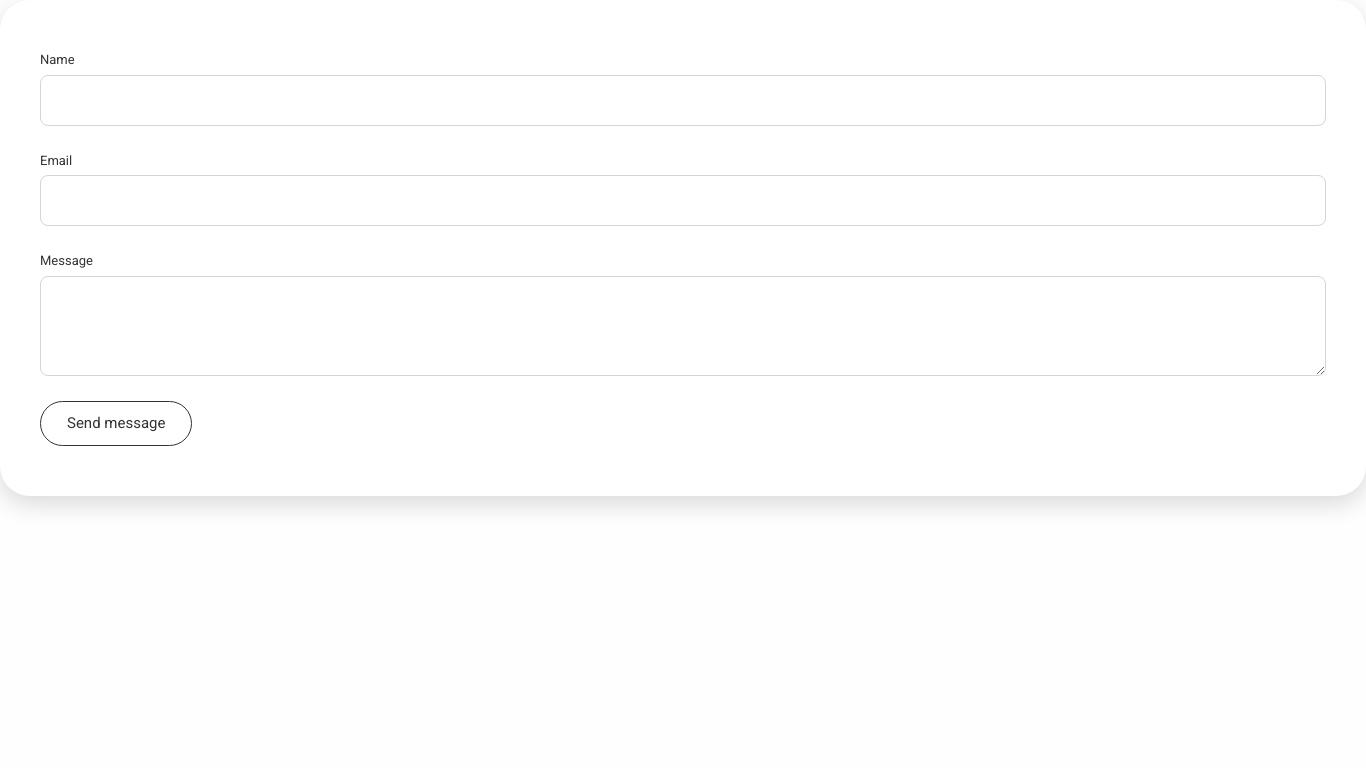
Form › form interaction › should handle form submission with server error
Use the default MSW handler which validates the input
Type "J" into the field labelled "Name" at (683, 100), box [40,74,1326,126]
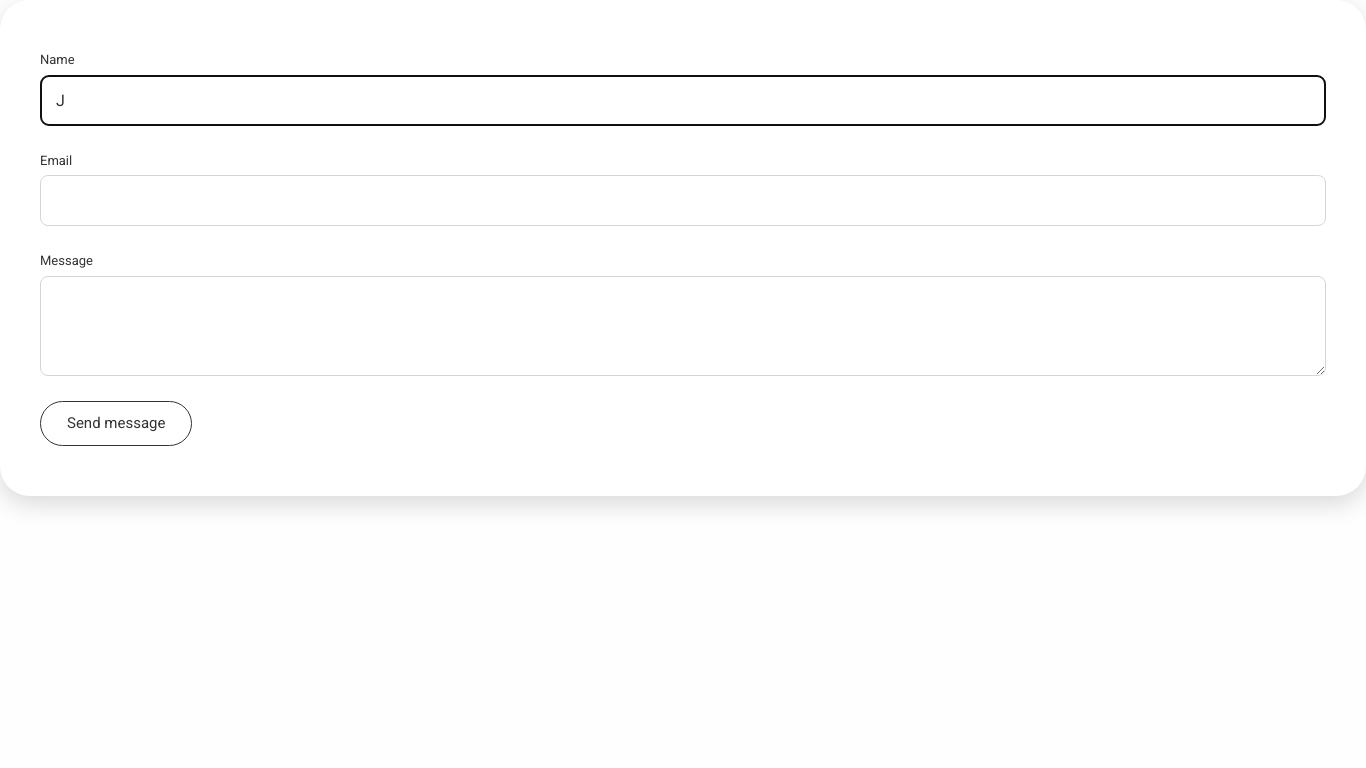
Type "john@example.com" into the field labelled "Email" at (683, 200), box [40,175,1326,226]
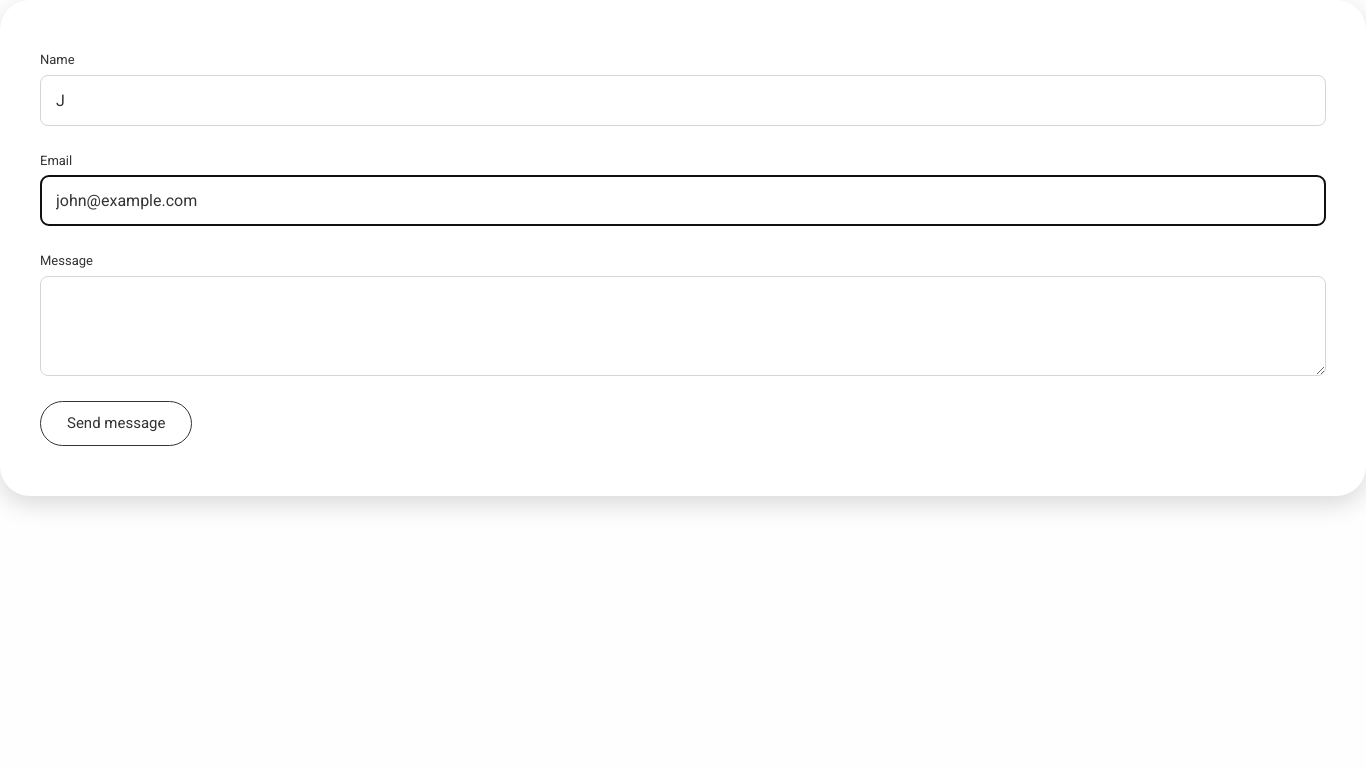
Type "Test message here" into the text box labelled "Message" at (683, 326), box [40,276,1326,376]
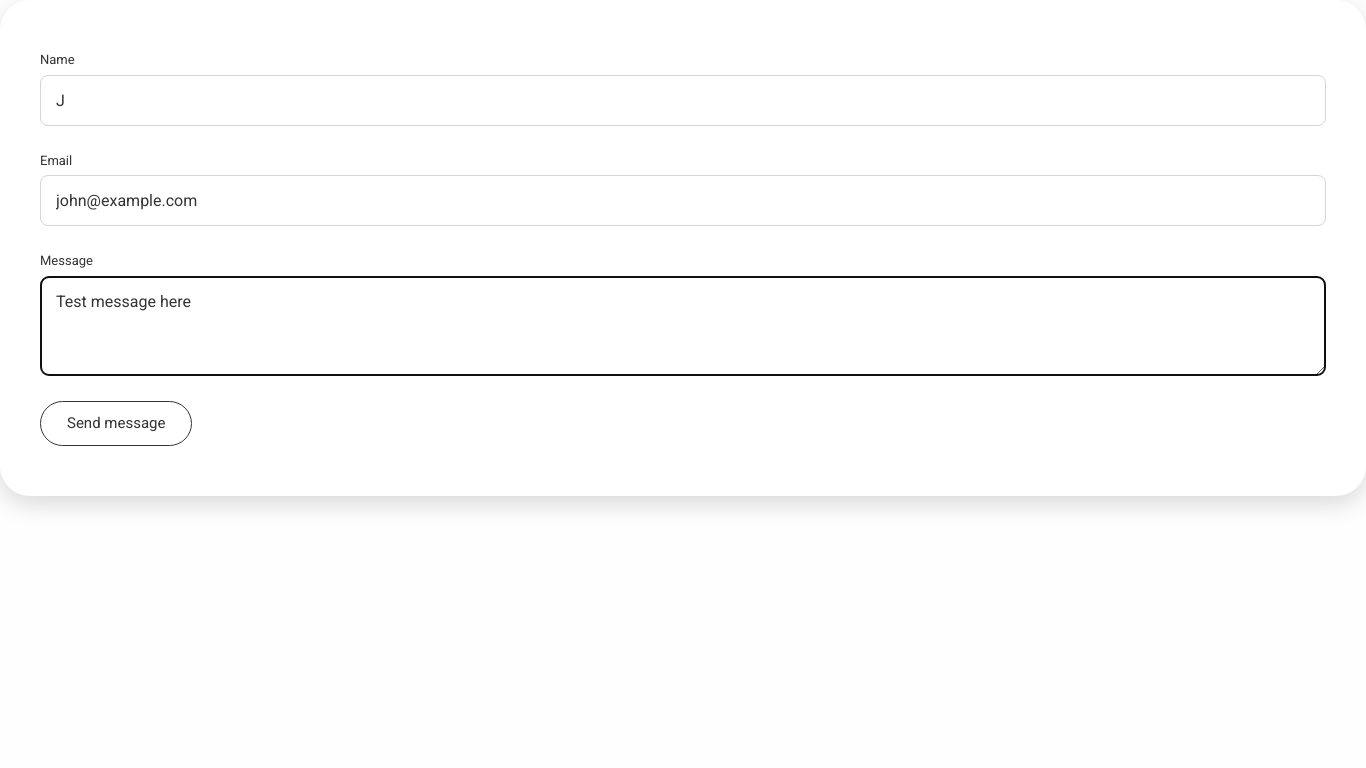
Click the button "Send message" at (116, 423), box [40,400,192,446]
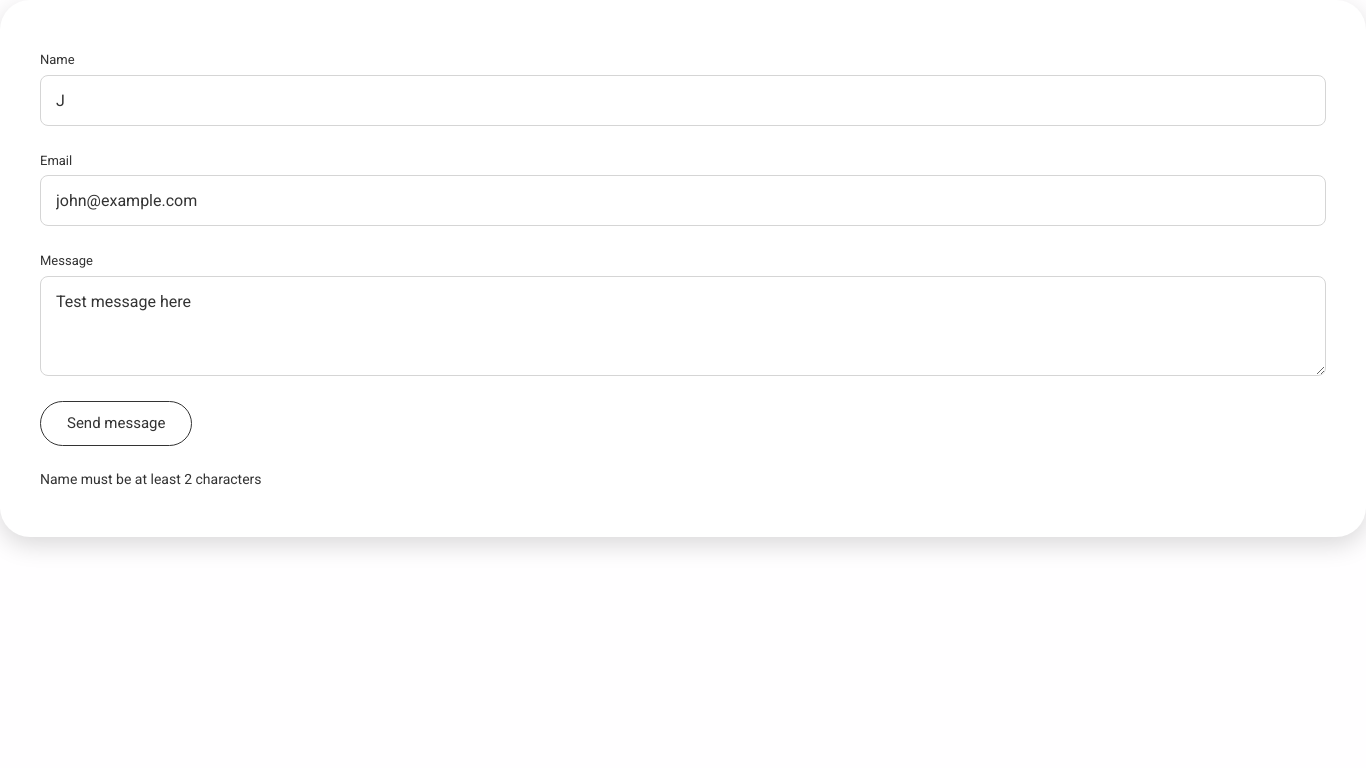
Now the text "Name must be at least 2 characters" is shown, box [40,470,262,486]
